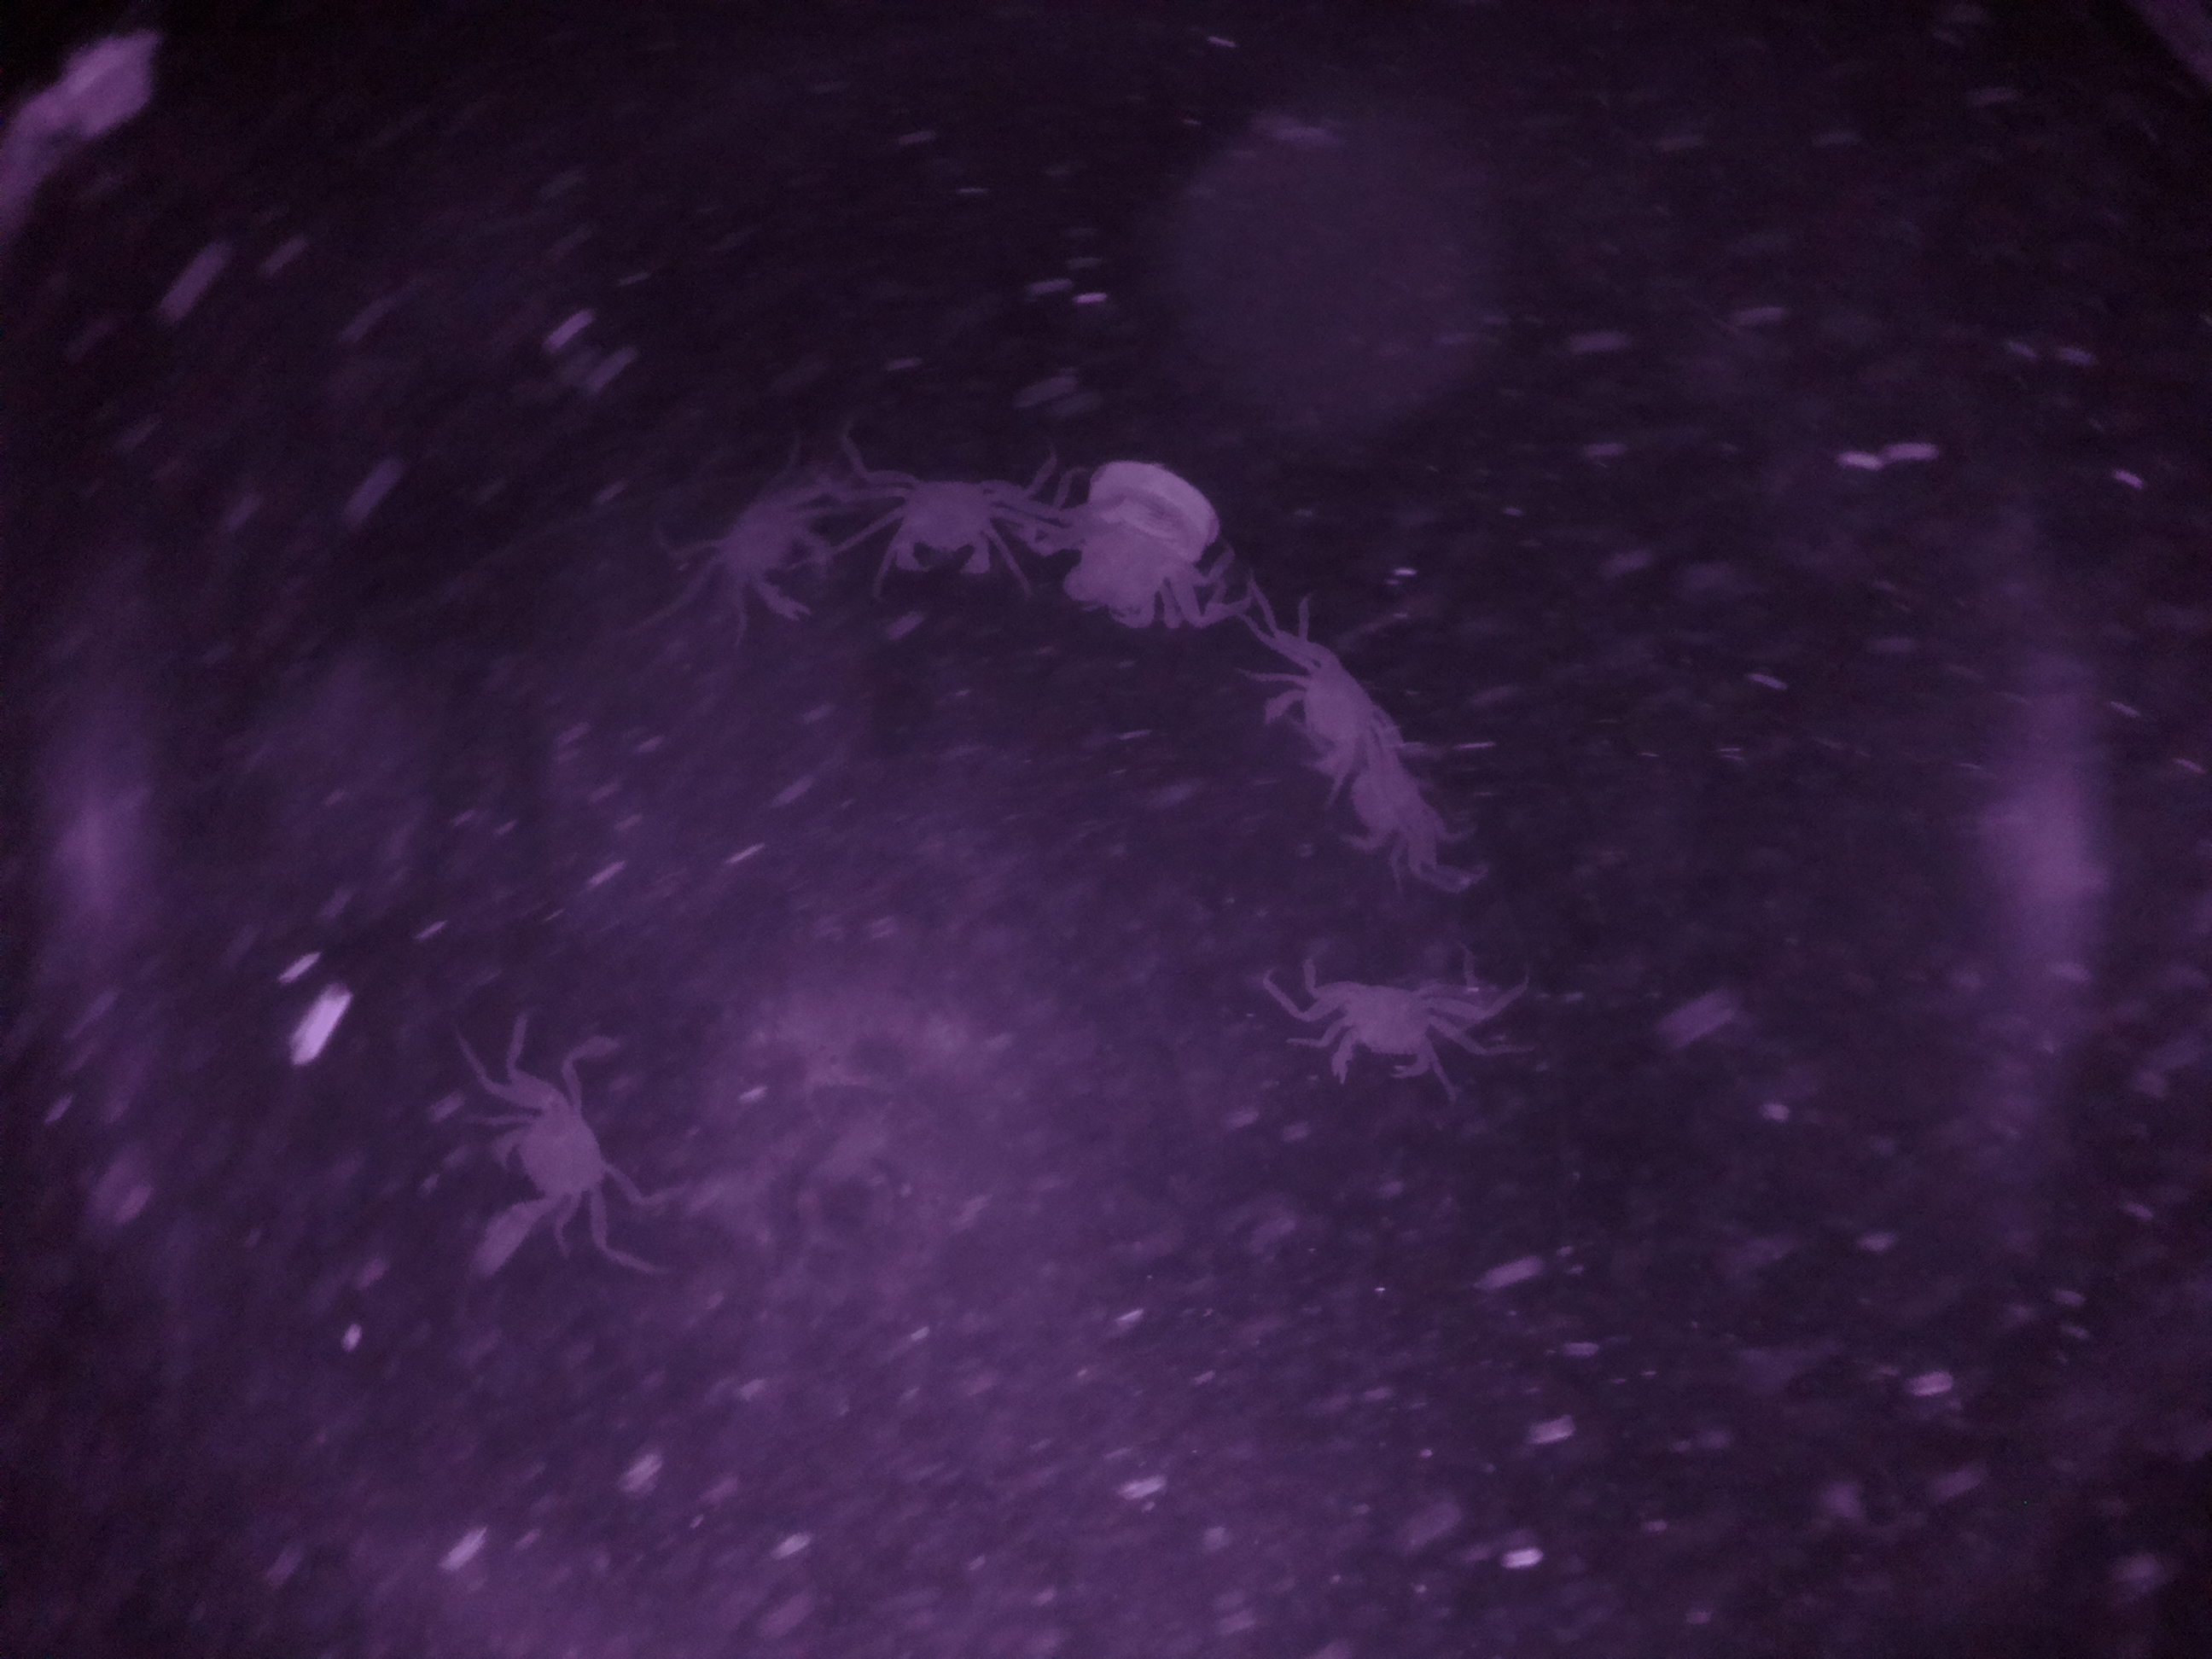Crab: (1252, 939, 1517, 1089), (840, 427, 1049, 603)
